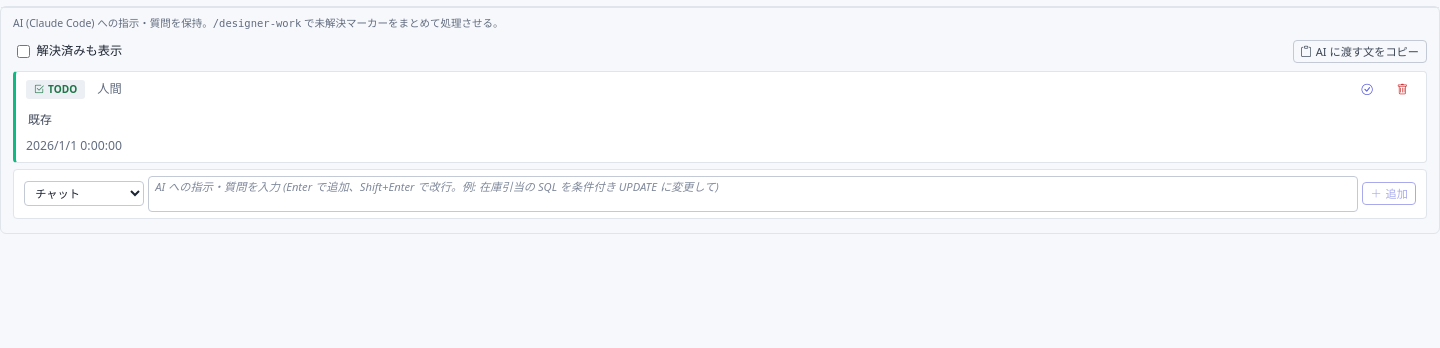
it: RemoteMarkerPanel › 開いたとき、サーバのマーカーを読む。追加は、その場で保存の要求 (差分だけ) を送り、サーバの結果で整える
The width and height of the screenshot is (1440, 348).
Expected: the text "既存" is shown, x1=28 y1=111 x2=52 y2=127
Replace the text in the text box with test id "marker-add-input" with "ボタンの位置" at [753, 194], box x1=148 y1=176 x2=1358 y2=212
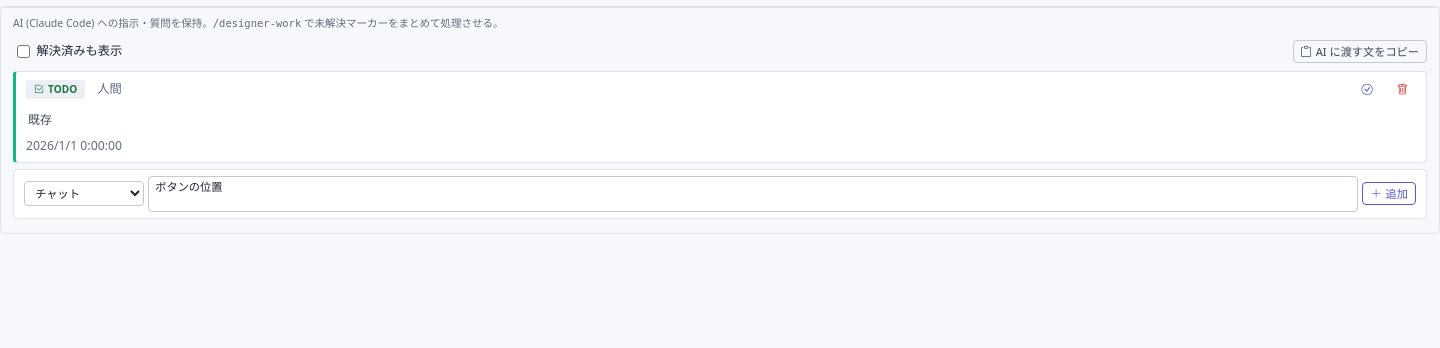
Click the button with test id "marker-add-btn" at [1389, 194], box x1=1362 y1=182 x2=1416 y2=205
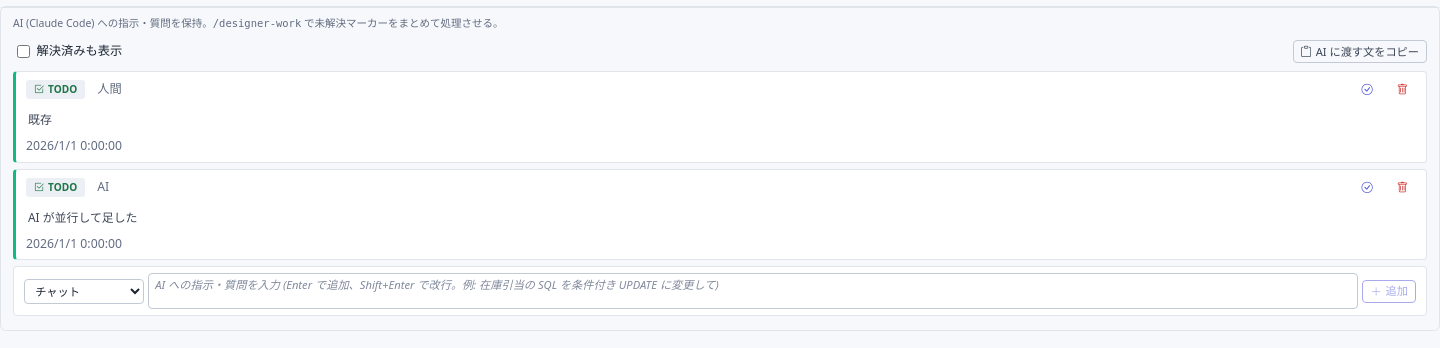
Result: the text "AI が並行して足した" is shown at x1=28 y1=209 x2=138 y2=225
